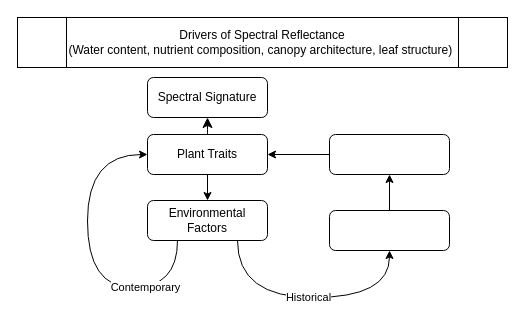
The diagram is 525 pixels wide and 321 high, and some of its shapes have lost their labels. The centre of each missing label's shape, as x and y in pixels:
"Phylogenetic Origin" goes at (x=389, y=230).
"Taxonomic Structure" goes at (x=389, y=154).
